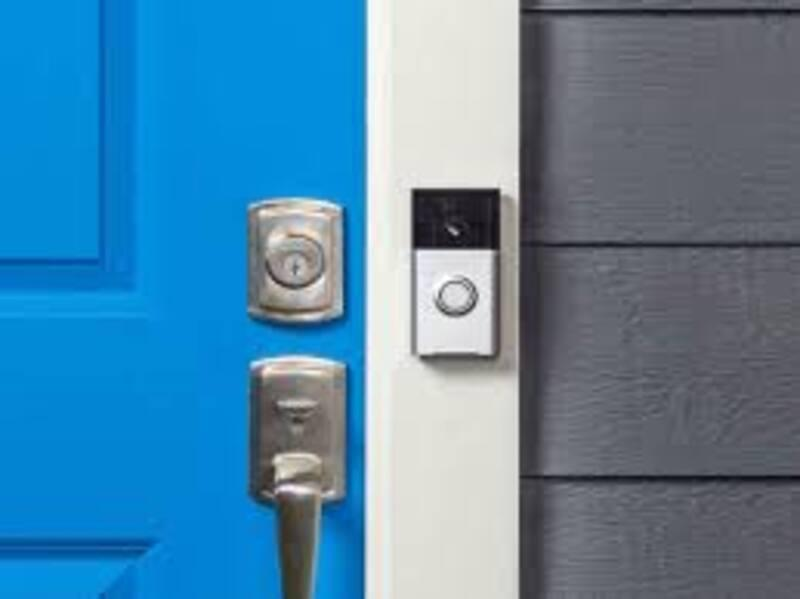doorbell: (403, 177, 504, 377)
